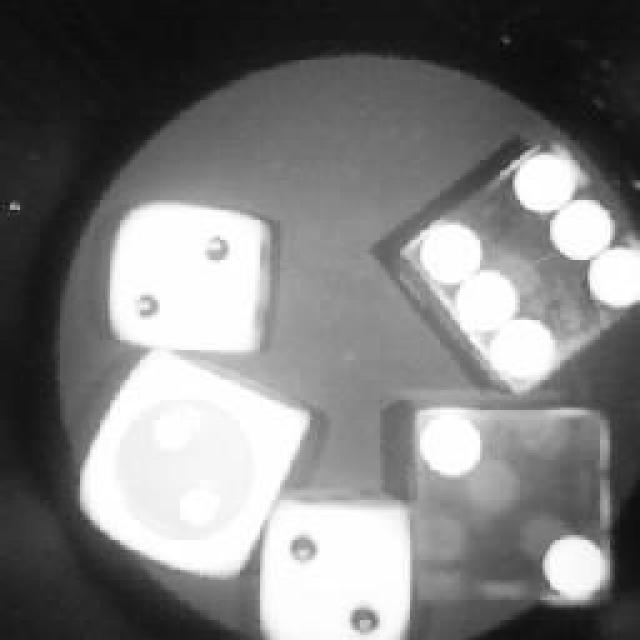dice_2: (68, 350, 318, 578), (388, 392, 622, 612), (102, 195, 278, 355), (252, 492, 420, 640)
dice_6: (385, 133, 640, 405)
